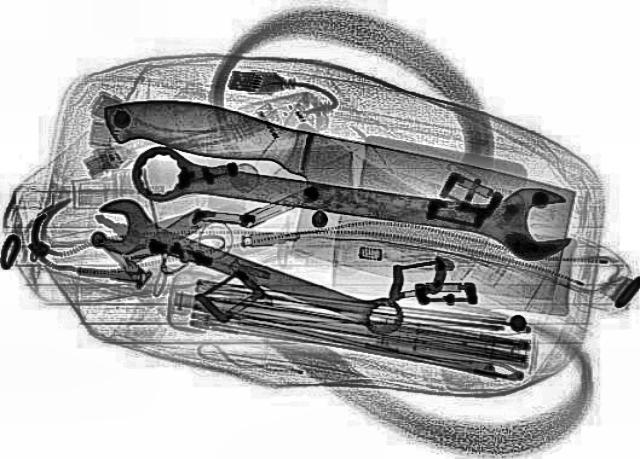Knife: (56, 85, 604, 307)
Wrench: (119, 128, 584, 264), (74, 191, 420, 343)
